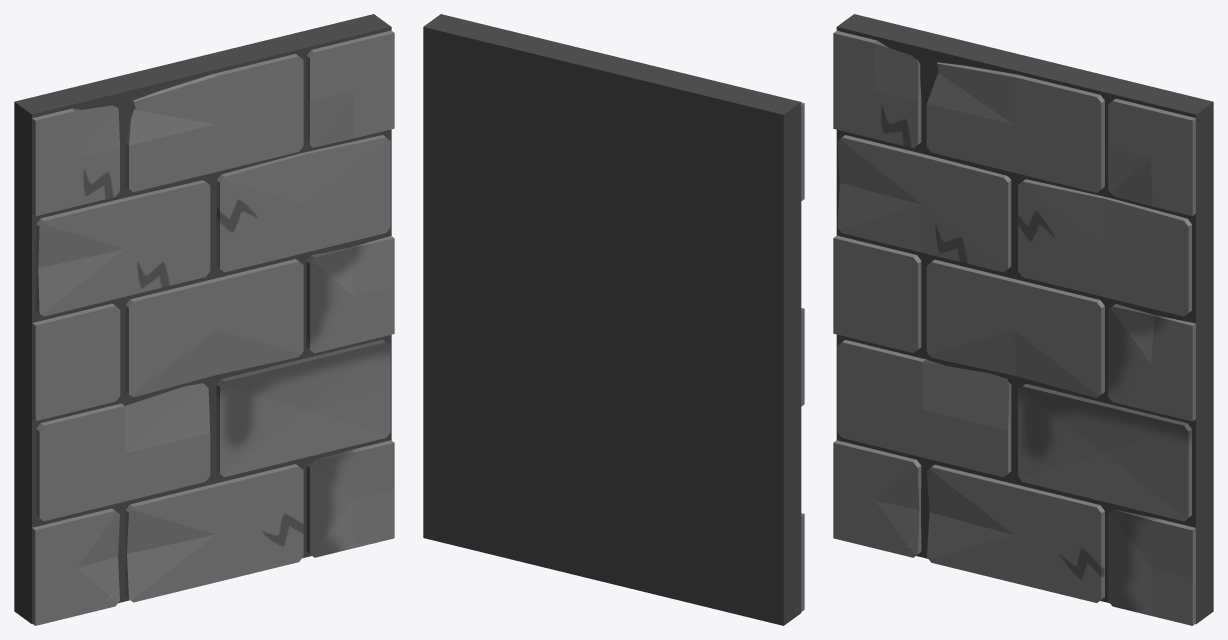
The model's file is pared.fbx.
3 renders of one model, left to right at view 1: azimuth 30°, elevation 25°; view 2: azimuth 150°, elevation 25°; view 3: azimuth 330°, elevation 25°, orthographic.
Visible parts, largest first — view 1: pasted__polySurface36; view 2: pasted__polySurface36; view 3: pasted__polySurface36.
Boxes of the visible parts, <box> form: pasted__polySurface36: <box>14,14,394,625</box>; pasted__polySurface36: <box>423,14,804,625</box>; pasted__polySurface36: <box>833,14,1213,625</box>.
Size of the model in its own units: 11.81 by 16 by 1.2.
1 material, 1 textured.
